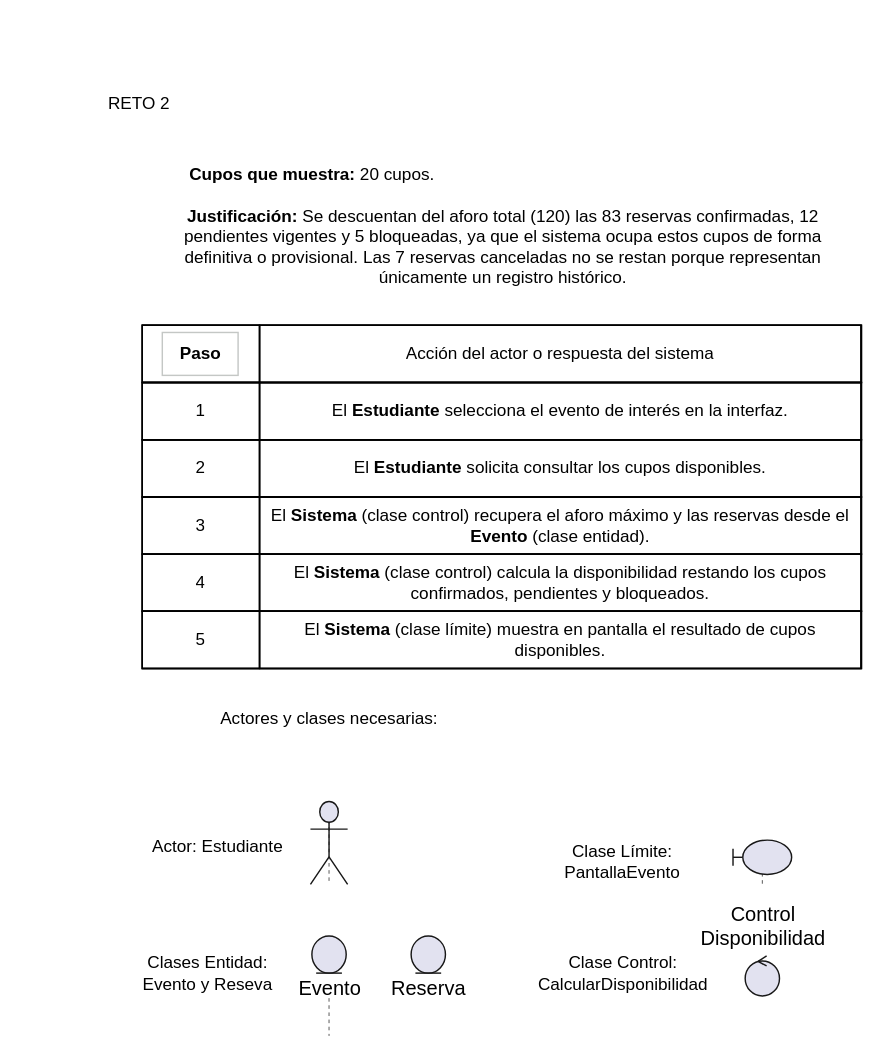
Some shapes in this 887 by 1061 pixel diagram are drawn without their labels. Here are the shapes that lost their labels. From the top down, the centre of each, then its label:
At [328,842]: "Estudiante".
At [762,856]: "Pantalla Evento".
